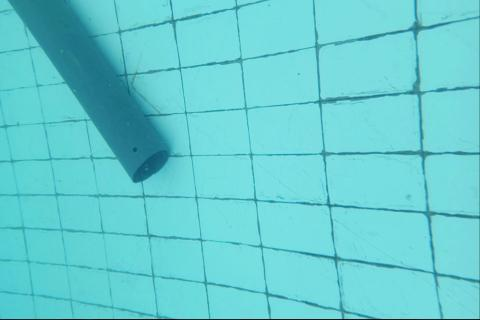kebocoran: (132, 146, 137, 152)
